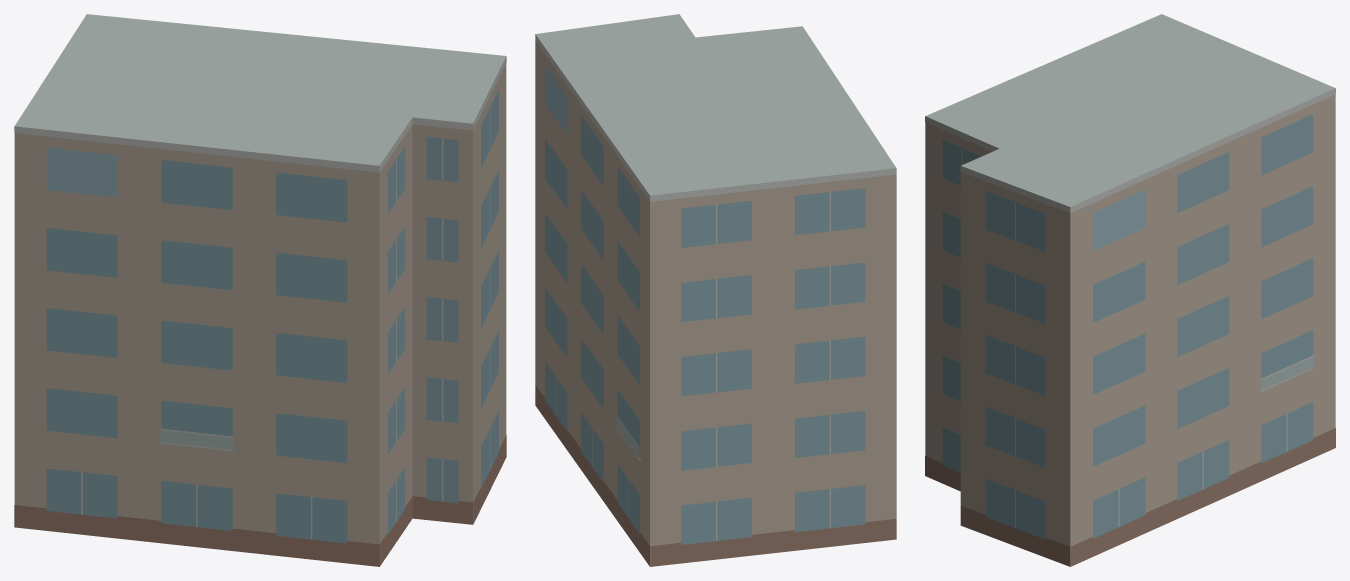
Rendered from survey-upis-32932400.glb.
The picture shows the model from 3 angles, left to right: view 1: azimuth 30°, elevation 25°; view 2: azimuth 150°, elevation 25°; view 3: azimuth 270°, elevation 25°; orthographic projection. The views are drawn at different scales.
Parts seen in each view (by area): view 1: survey-upis-32932400.tmp; view 2: survey-upis-32932400.tmp; view 3: survey-upis-32932400.tmp.
Part boxes in pixels (box(x1,y1,x2,y2)): survey-upis-32932400.tmp: box(14, 14, 506, 566); survey-upis-32932400.tmp: box(535, 14, 896, 566); survey-upis-32932400.tmp: box(925, 14, 1335, 566).
Size of the model in its own units: 16.58 by 14.4 by 14.9.
